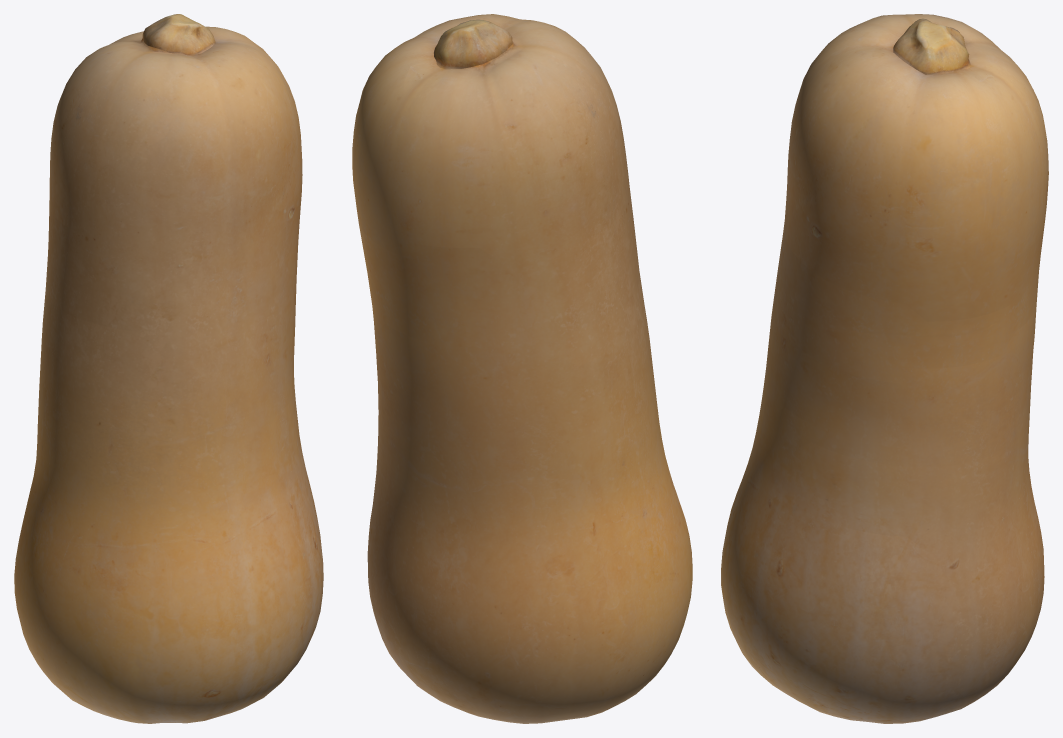
Rendered from squash_2.fbx.
3 renders of one model, left to right at view 1: azimuth 30°, elevation 25°; view 2: azimuth 150°, elevation 25°; view 3: azimuth 270°, elevation 25°, orthographic. The views are drawn at different scales.
Parts seen in each view (by area): view 1: Butternut_Squash_Low2; view 2: Butternut_Squash_Low2; view 3: Butternut_Squash_Low2.
Boxes of the visible parts, x1,y1,x2,y2 form: Butternut_Squash_Low2: [14, 14, 323, 723]; Butternut_Squash_Low2: [352, 14, 692, 723]; Butternut_Squash_Low2: [721, 14, 1048, 723].
Size of the model in its own units: 2.83 by 6.51 by 2.84.
Materials: 1 (1 with a texture image).
